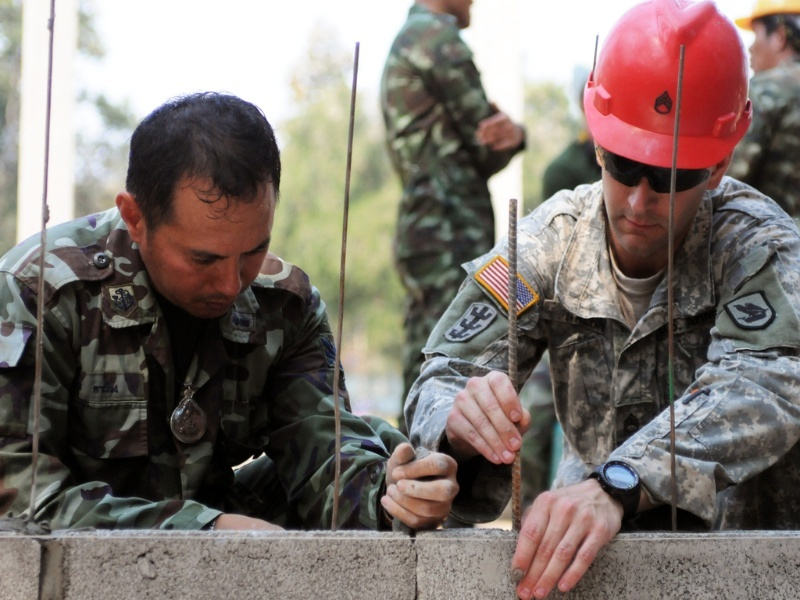baret: (581, 1, 754, 169)
